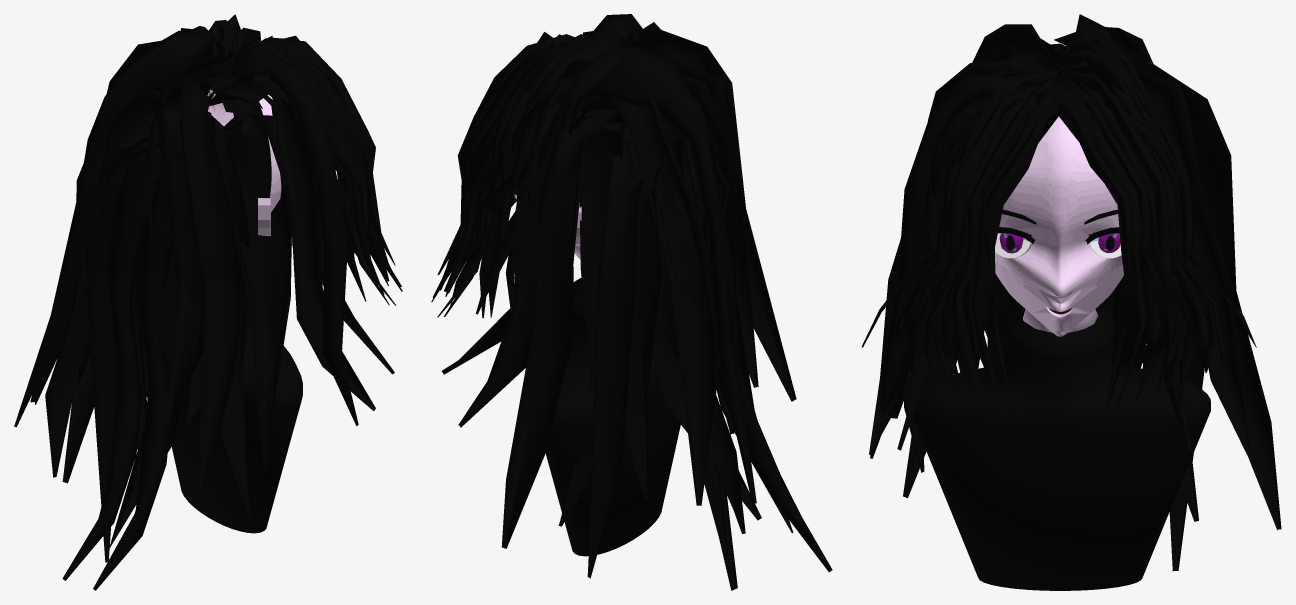
The model's file is GirlV2Other.glb.
3 renders of one model, left to right at view 1: azimuth 30°, elevation 25°; view 2: azimuth 150°, elevation 25°; view 3: azimuth 270°, elevation 25°, orthographic. The views are drawn at different scales.
Parts seen in each view (by area): view 1: NurbsPath, Cylinder.001, Plane.001; view 2: NurbsPath, Cylinder.001; view 3: NurbsPath, Cylinder.001, Plane.001, Sphere.001.
Part boxes in pixels (bbox=[...]): NurbsPath: bbox=[14, 14, 402, 590]; Cylinder.001: bbox=[171, 311, 302, 533]; Plane.001: bbox=[207, 89, 292, 245]; NurbsPath: bbox=[431, 14, 832, 590]; Cylinder.001: bbox=[545, 278, 680, 556]; NurbsPath: bbox=[861, 14, 1281, 571]; Cylinder.001: bbox=[912, 305, 1210, 590]; Plane.001: bbox=[995, 116, 1123, 336]; Sphere.001: bbox=[999, 233, 1120, 253].
Size of the model in its own units: 3.75 by 5.44 by 3.58.
Materials: 8 (2 with a texture image).
